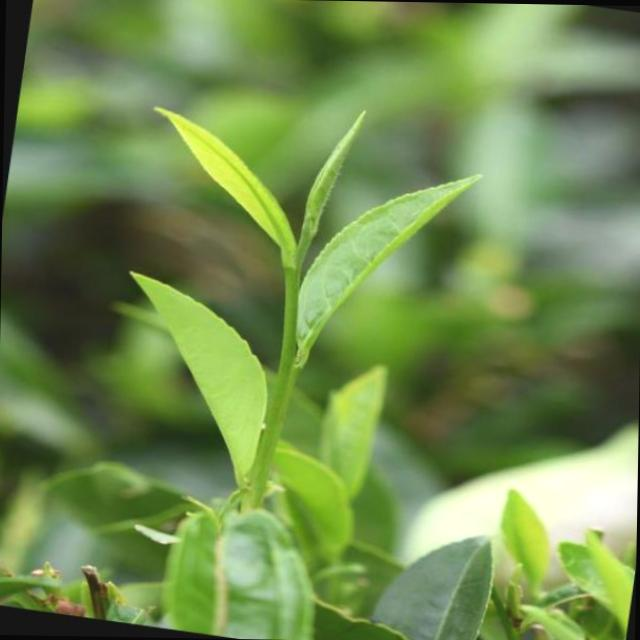Stem: (286, 261, 299, 287)
